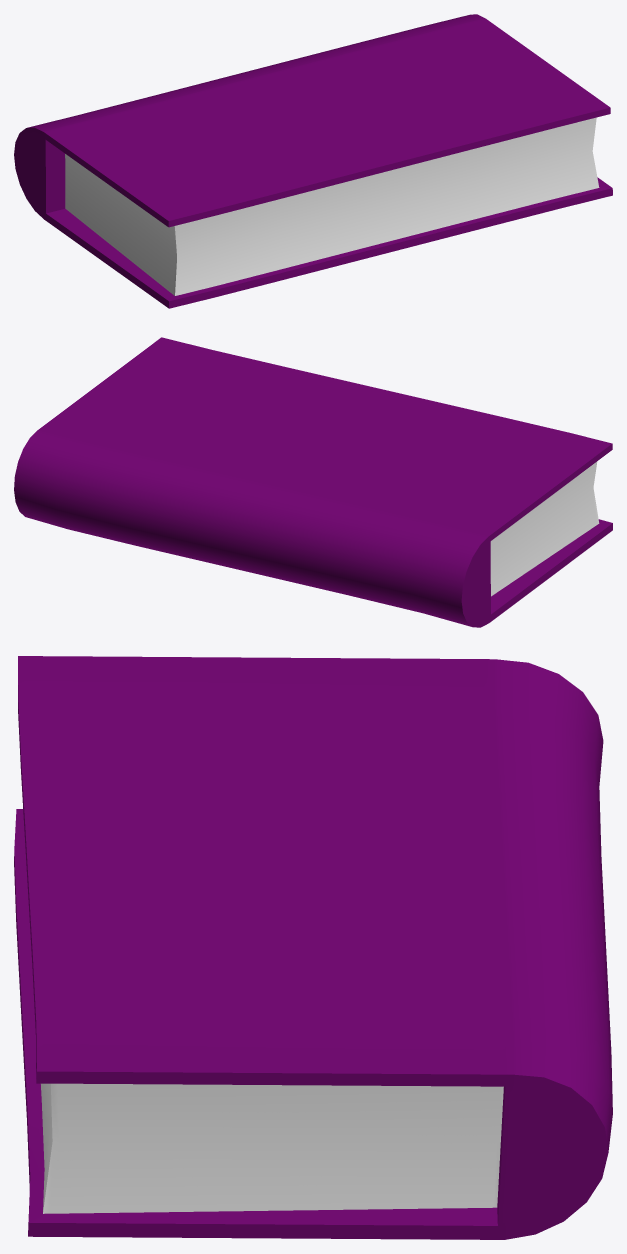
The model's file is BigBook.fbx.
3 views of the same model, one above another, from view 1: azimuth 30°, elevation 25°; view 2: azimuth 150°, elevation 25°; view 3: azimuth 270°, elevation 25° (orthographic). The views are drawn at different scales.
Visible parts, largest first — view 1: BigBook; view 2: BigBook; view 3: BigBook.
Part boxes in pixels (left/top/right/bottom): BigBook: left=14, top=14, right=612, bottom=308; BigBook: left=14, top=337, right=612, bottom=627; BigBook: left=14, top=656, right=612, bottom=1239.
Size of the model in its own units: 4.31 by 0.8283 by 2.61.
